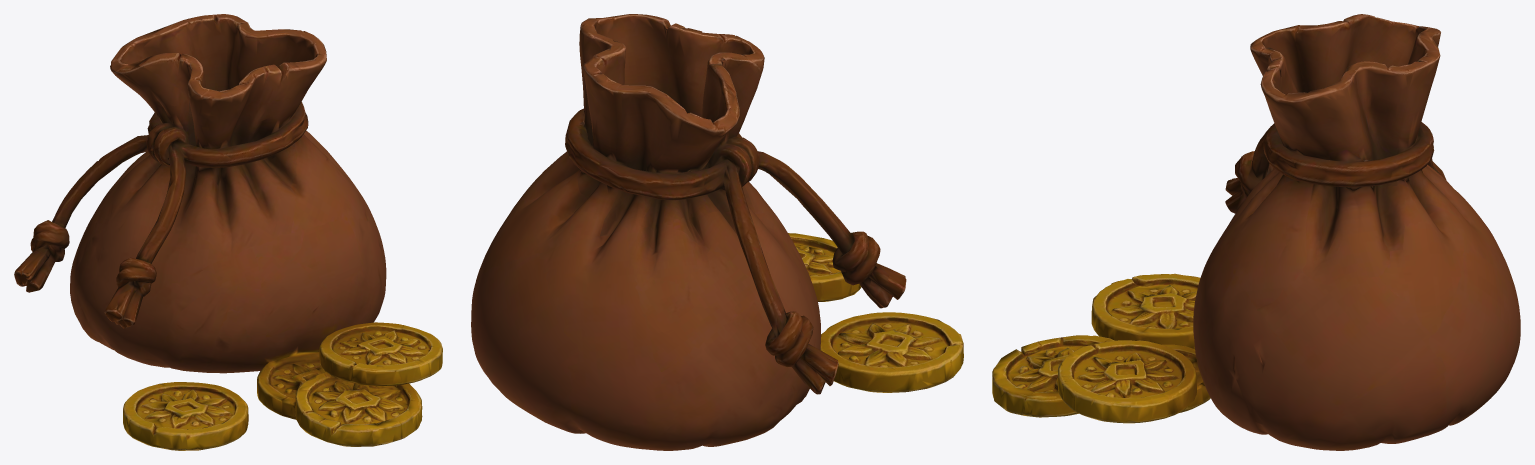
File: study_pouch_a_v1.glb
3 views of the same model, side by side, from view 1: azimuth 30°, elevation 25°; view 2: azimuth 150°, elevation 25°; view 3: azimuth 270°, elevation 25° (orthographic). The views are drawn at different scales.
Parts seen in each view (by area): view 1: tripo_node_68b506b3-beee-493f-b7aa-f063e3c5f03d; view 2: tripo_node_68b506b3-beee-493f-b7aa-f063e3c5f03d; view 3: tripo_node_68b506b3-beee-493f-b7aa-f063e3c5f03d.
Boxes of the visible parts, x1,y1,x2,y2 form: tripo_node_68b506b3-beee-493f-b7aa-f063e3c5f03d: (14, 14, 442, 450); tripo_node_68b506b3-beee-493f-b7aa-f063e3c5f03d: (471, 14, 963, 450); tripo_node_68b506b3-beee-493f-b7aa-f063e3c5f03d: (992, 14, 1520, 450).
Size of the model in its own units: 0.8115 by 0.7084 by 0.9797.
Materials: 1 (1 with a texture image).
